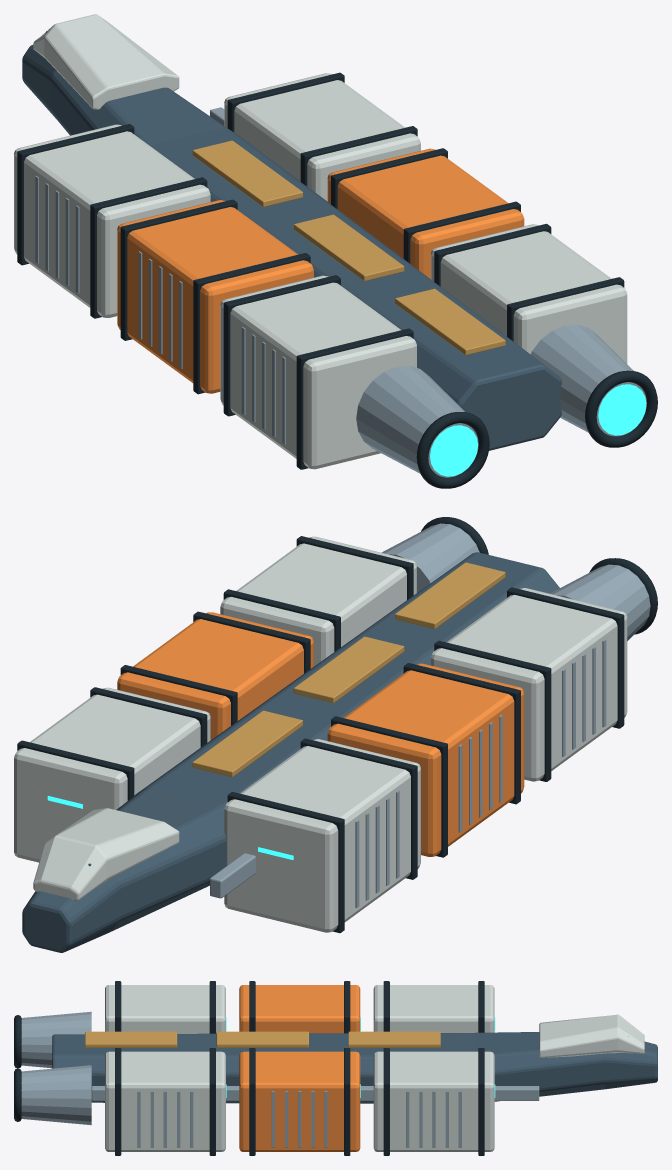
The model's file is basajaun_hauler.glb.
The picture shows the model from 3 angles, top to bottom: view 1: azimuth 30°, elevation 25°; view 2: azimuth 150°, elevation 25°; view 3: azimuth 270°, elevation 25°; orthographic projection. The views are drawn at different scales.
Visible parts, largest first — view 1: Geometry_basajaun_hauler; view 2: Geometry_basajaun_hauler; view 3: Geometry_basajaun_hauler.
Part boxes in pixels (x1,y1,x2,y2): Geometry_basajaun_hauler: (14, 14, 657, 488); Geometry_basajaun_hauler: (14, 517, 657, 952); Geometry_basajaun_hauler: (14, 981, 657, 1155).
Size of the model in its own units: 9.23 by 3.51 by 24.45.
